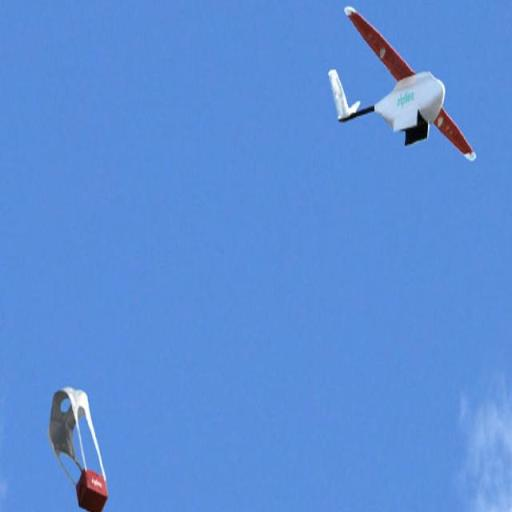uav: (323, 5, 485, 178)
